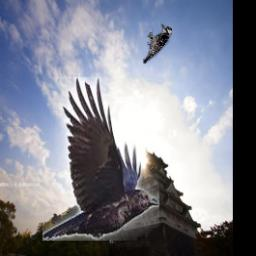Crow: (43, 77, 160, 241)
Woodpecker: (143, 25, 172, 65)
